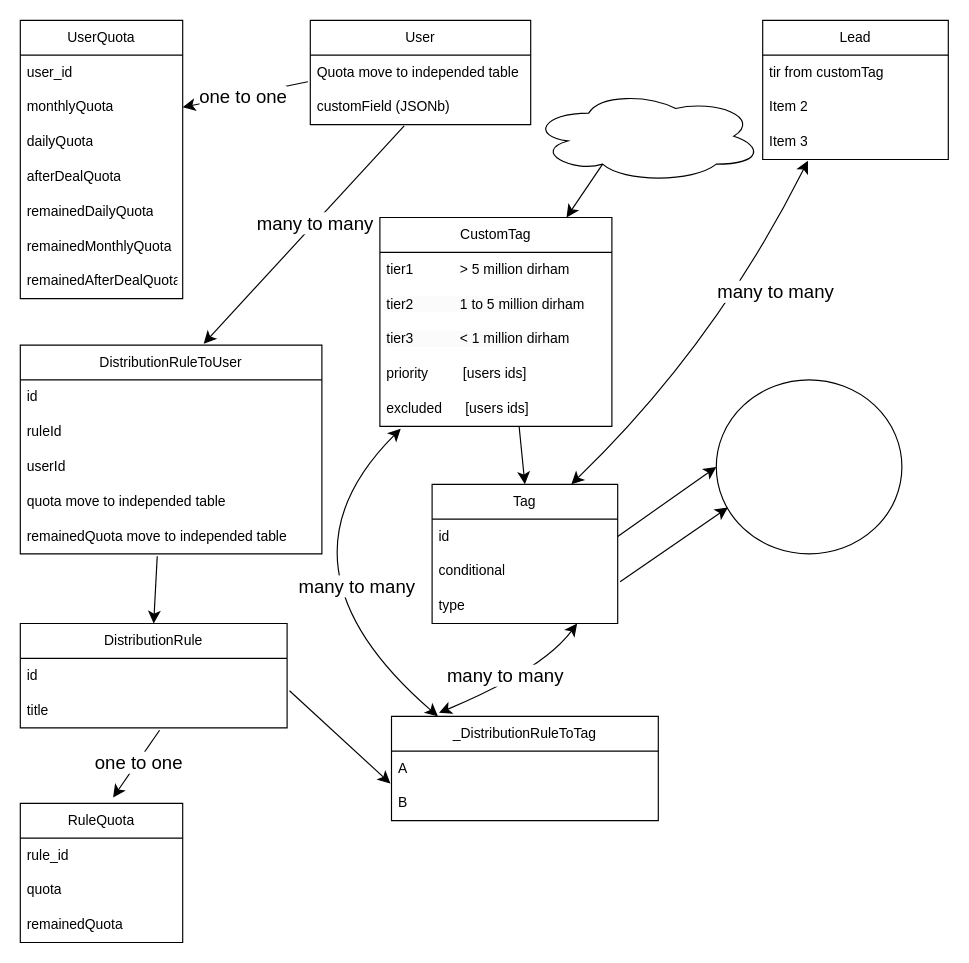
This 969x963 diagram has some shape labels left out. Each missing label, with the centre of its shape:
"distribution" belongs at (808,466).
"tiers for only ru & eng leads" belongs at (646,136).
